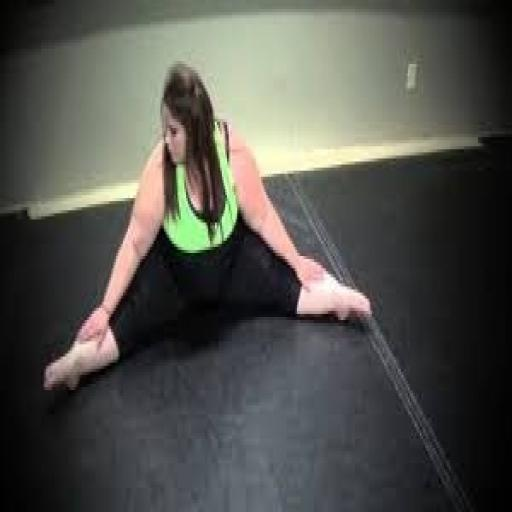dancing: (41, 58, 375, 396)
